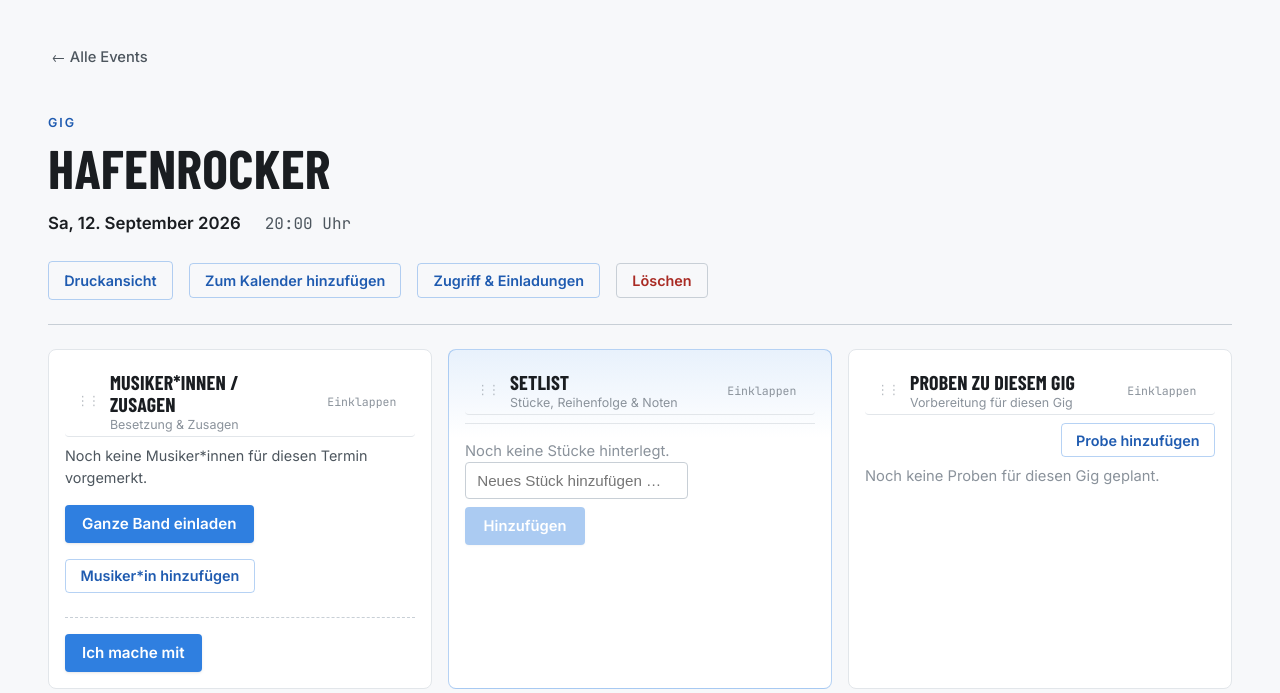
EventDetailComponent › should add a new piece to the setlist
The image size is (1280, 693).
Type "Neuer Song" into the field with class "setlist__input" at (577, 481), box [465,462,688,499]
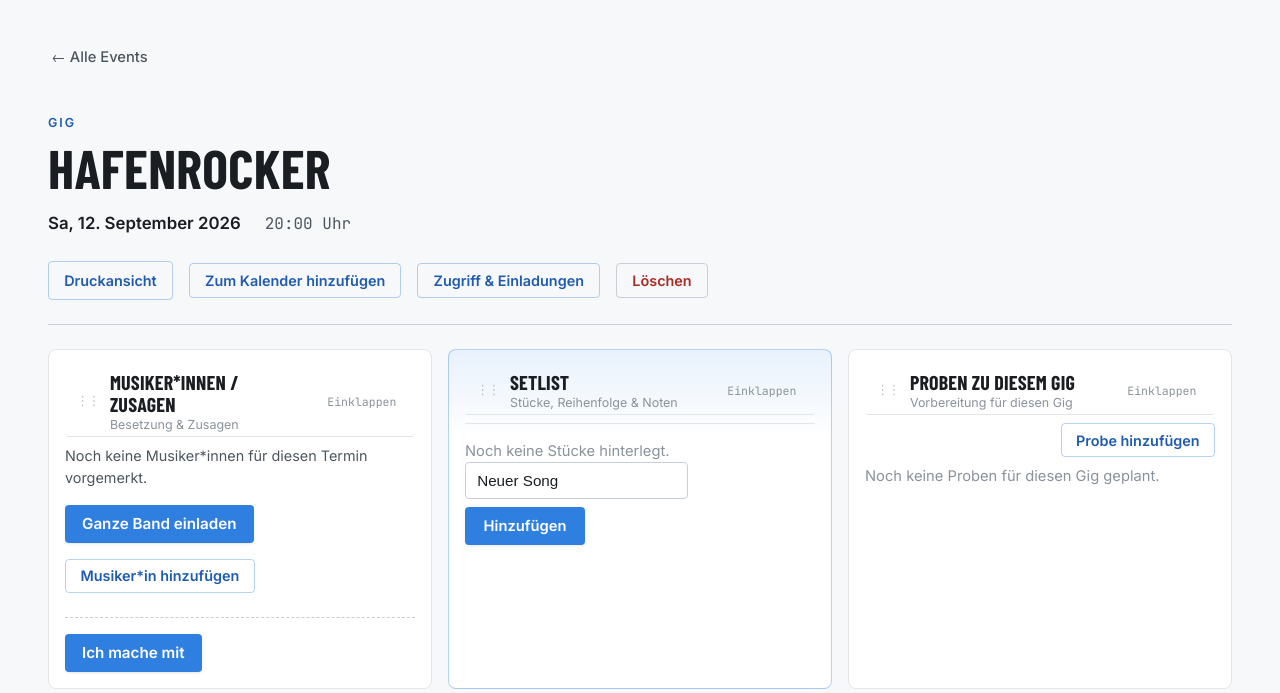
Click the button with class "setlist__submit" at (525, 526), box [465,507,585,545]
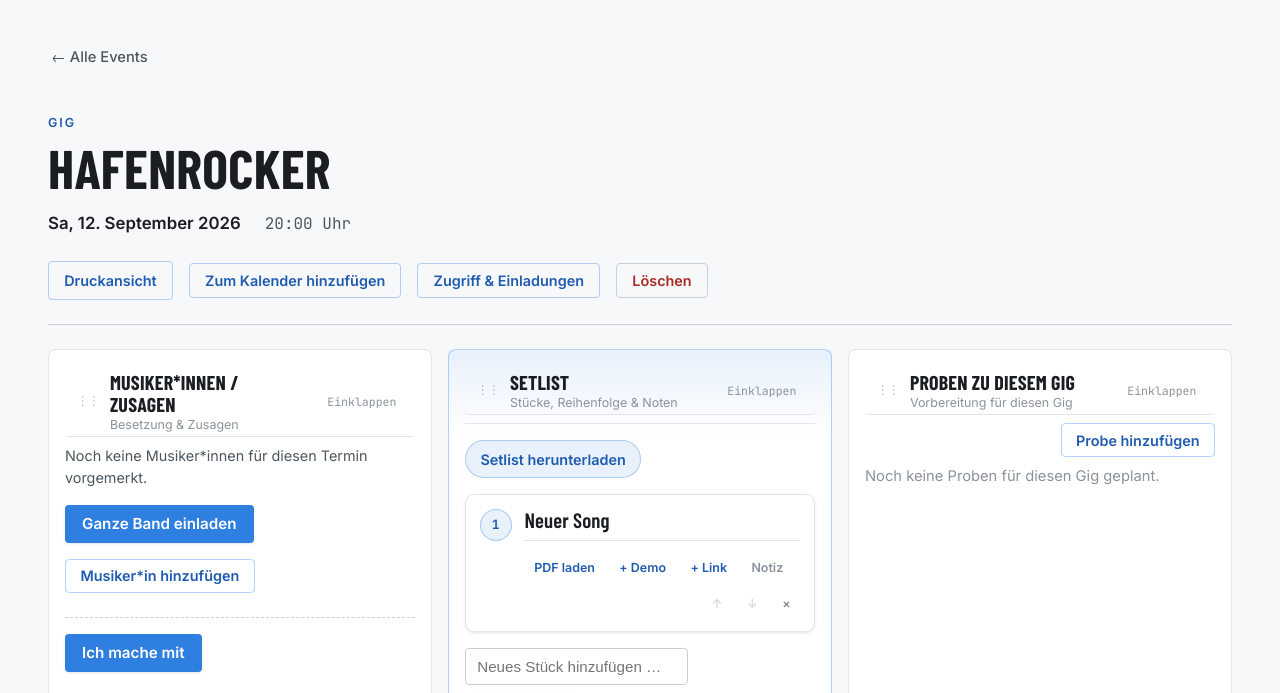
Result: the number of headings with class "entry__title" is 1 at [524,507,610,532]
Result: the heading with class "entry__title" reads "Neuer Song" at [524,507,610,532]
